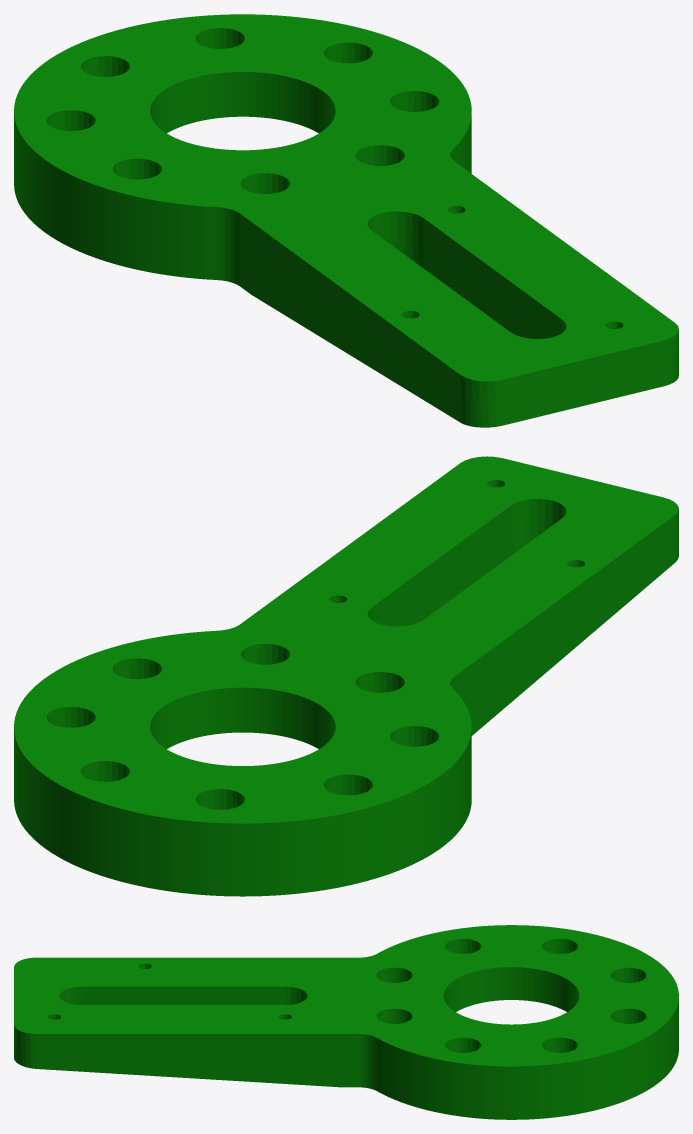
Rendered from mounting_plate.dae.
3 views of the same model, one above another, from view 1: azimuth 30°, elevation 25°; view 2: azimuth 150°, elevation 25°; view 3: azimuth 270°, elevation 25° (orthographic). The views are drawn at different scales.
Visible parts, largest first — view 1: mounting_plate; view 2: mounting_plate; view 3: mounting_plate.
Part boxes in pixels (box(x1,y1,x2,y2)): mounting_plate: box(14, 14, 678, 427); mounting_plate: box(14, 456, 678, 896); mounting_plate: box(14, 925, 678, 1119).
Bounding box in the file's own units: 0.074 × 0.147 × 0.013.
